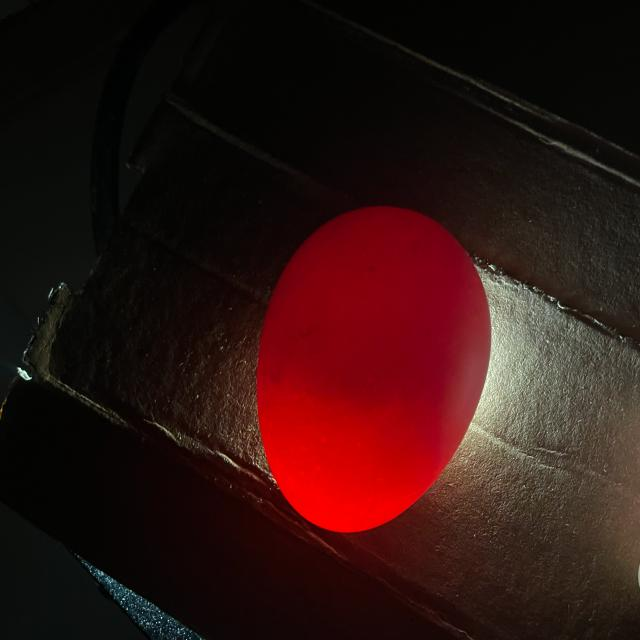fertile: (258, 206, 491, 532)
